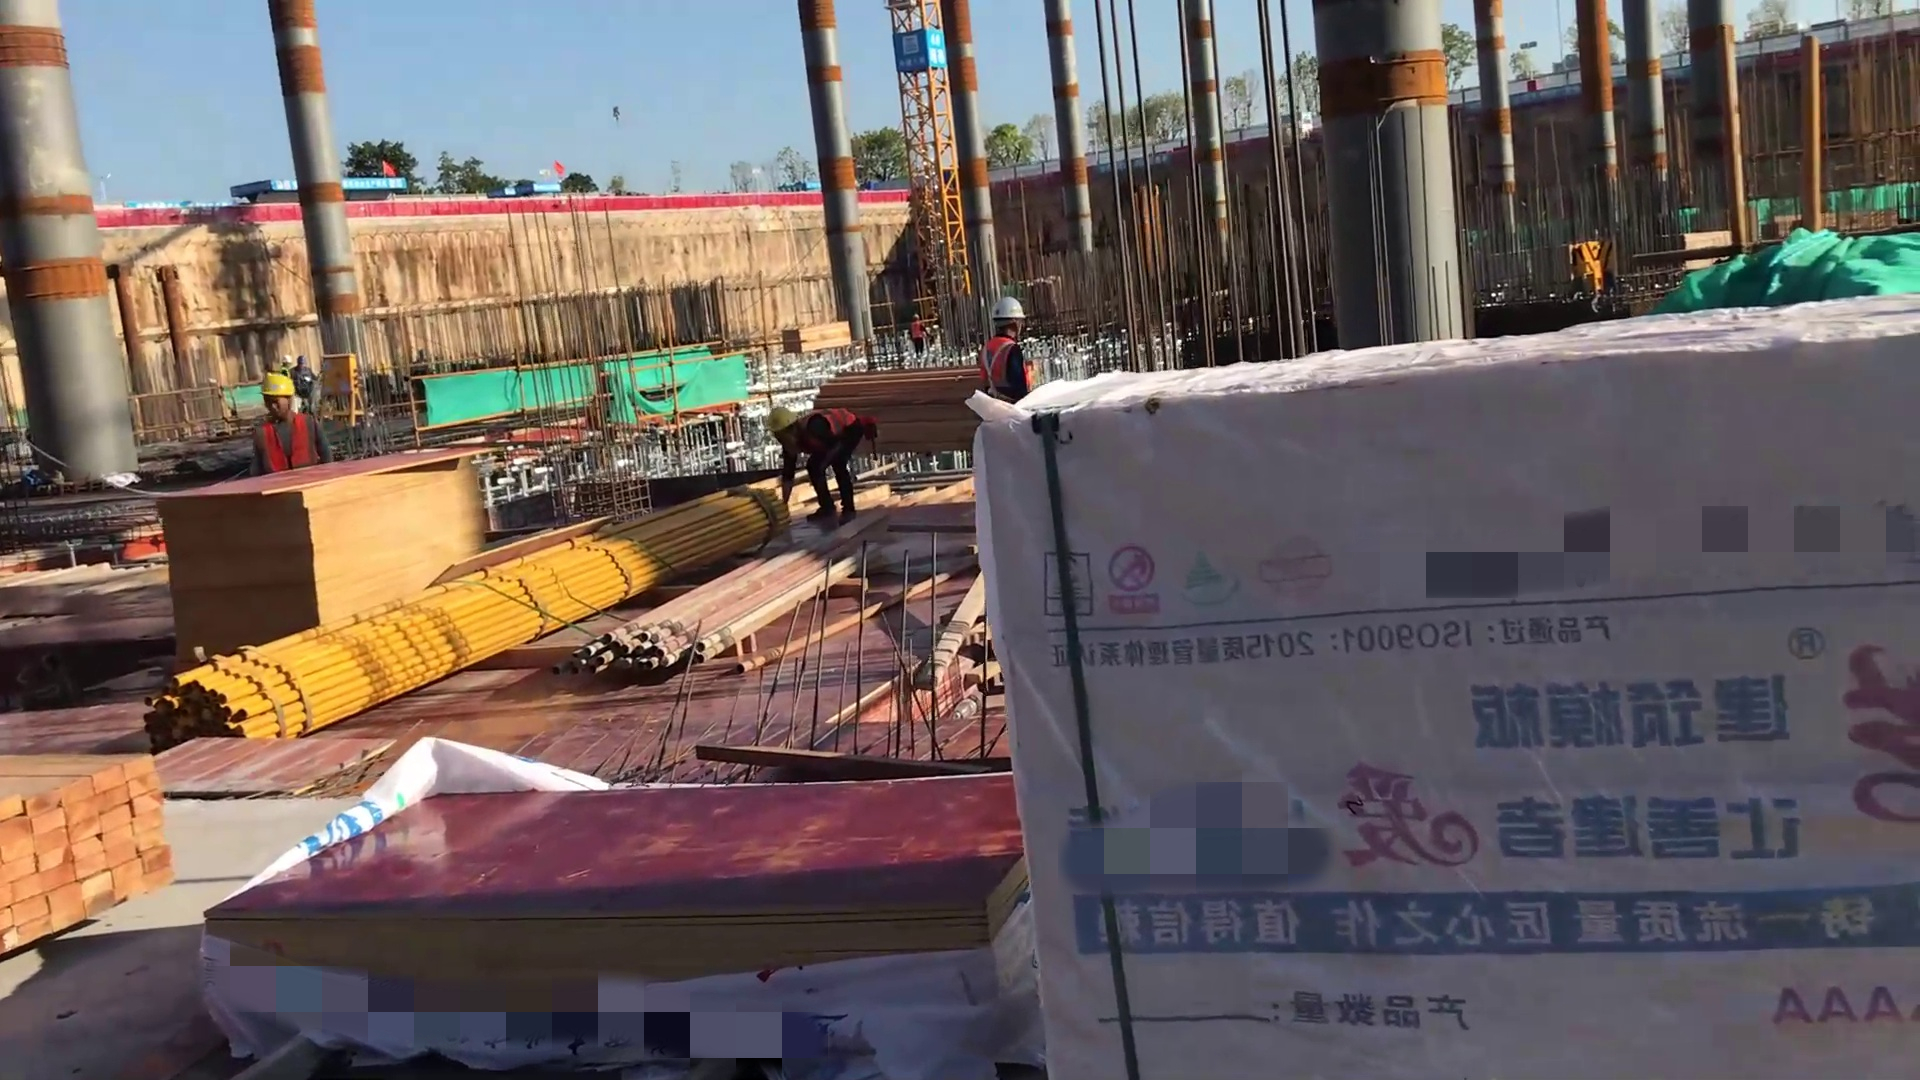helmet: (251, 368, 303, 402), (760, 398, 800, 440), (985, 294, 1031, 326)
person: (757, 395, 885, 534), (239, 361, 340, 484), (963, 283, 1046, 423)
vest: (971, 331, 1038, 408), (249, 412, 319, 472), (803, 402, 872, 443)
